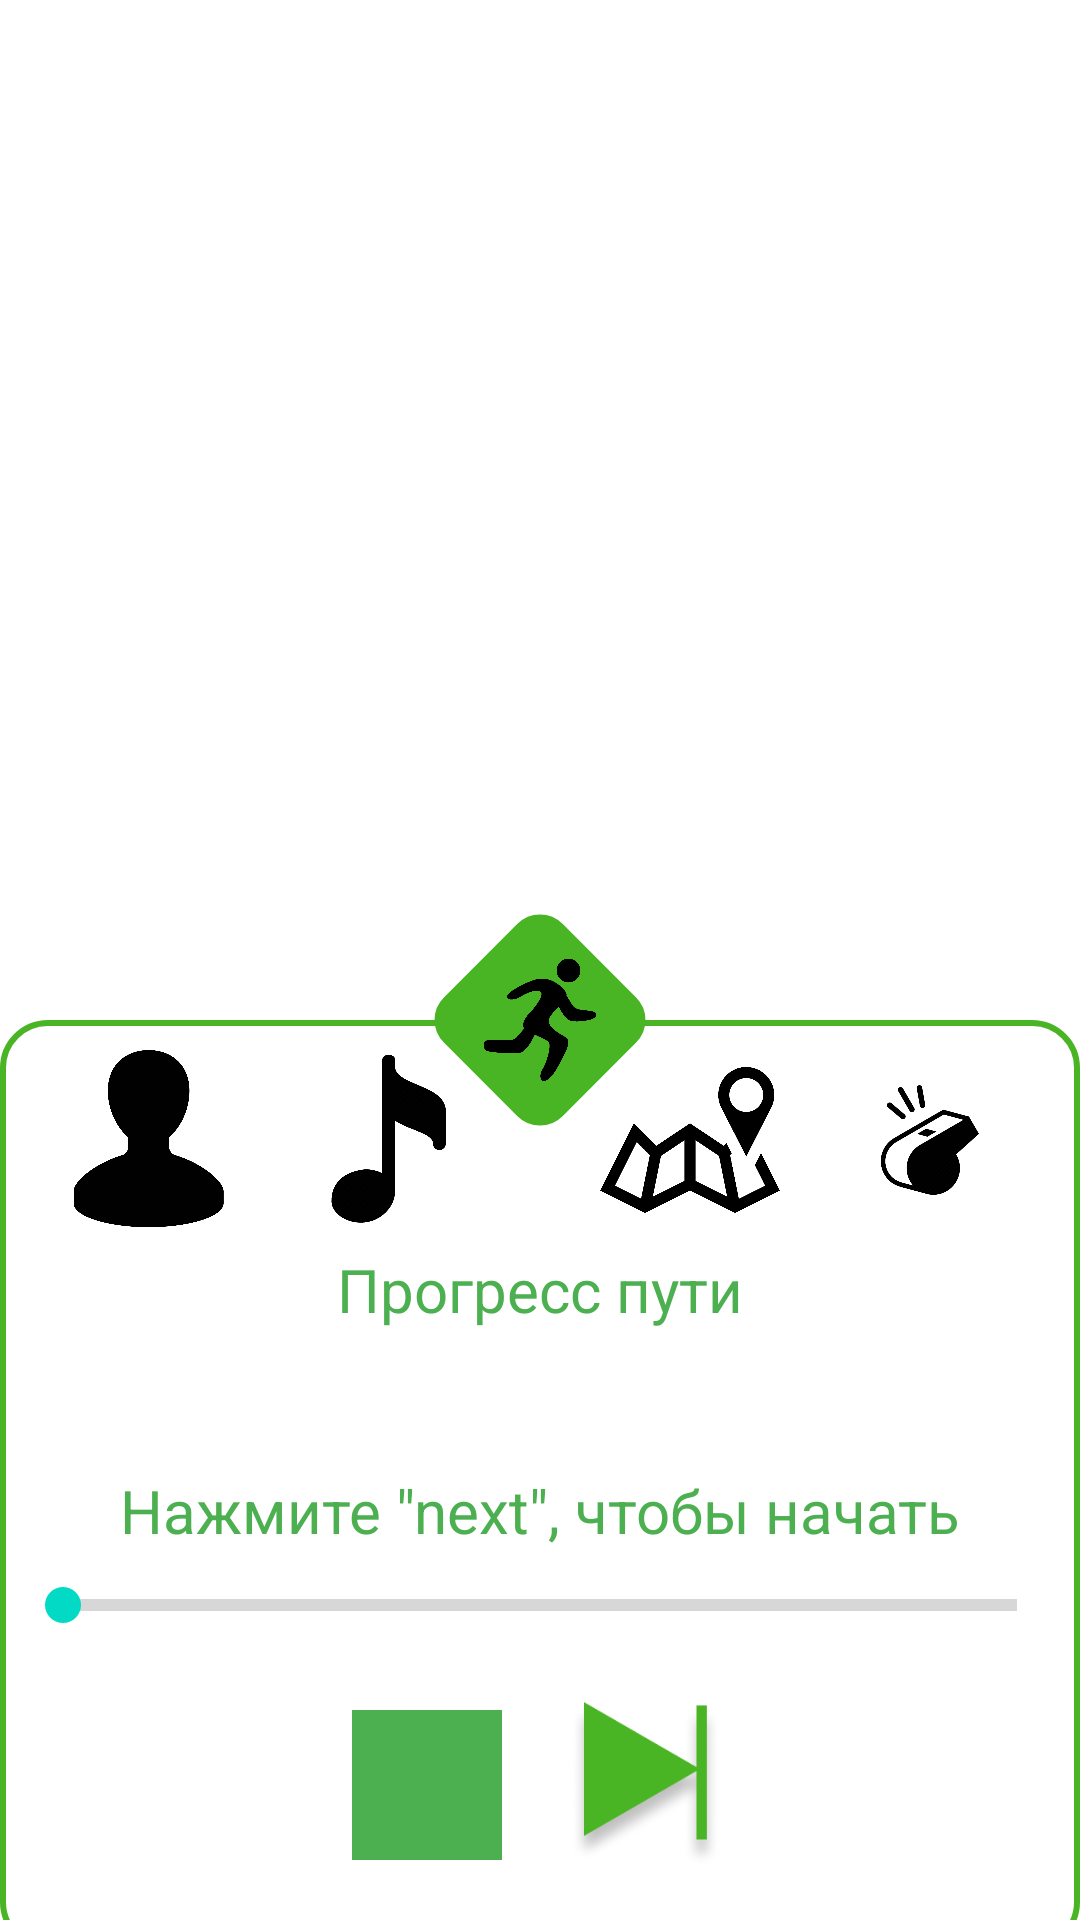

Icon bounding boxes for this 1080px×1920px phone screenshot, format (x1, y1, x2, y2):
human: (74, 1050, 224, 1227)
map: (600, 1067, 780, 1213)
note: (331, 1055, 446, 1223)
sport: (420, 914, 660, 1140)
svistok: (881, 1085, 979, 1195)
